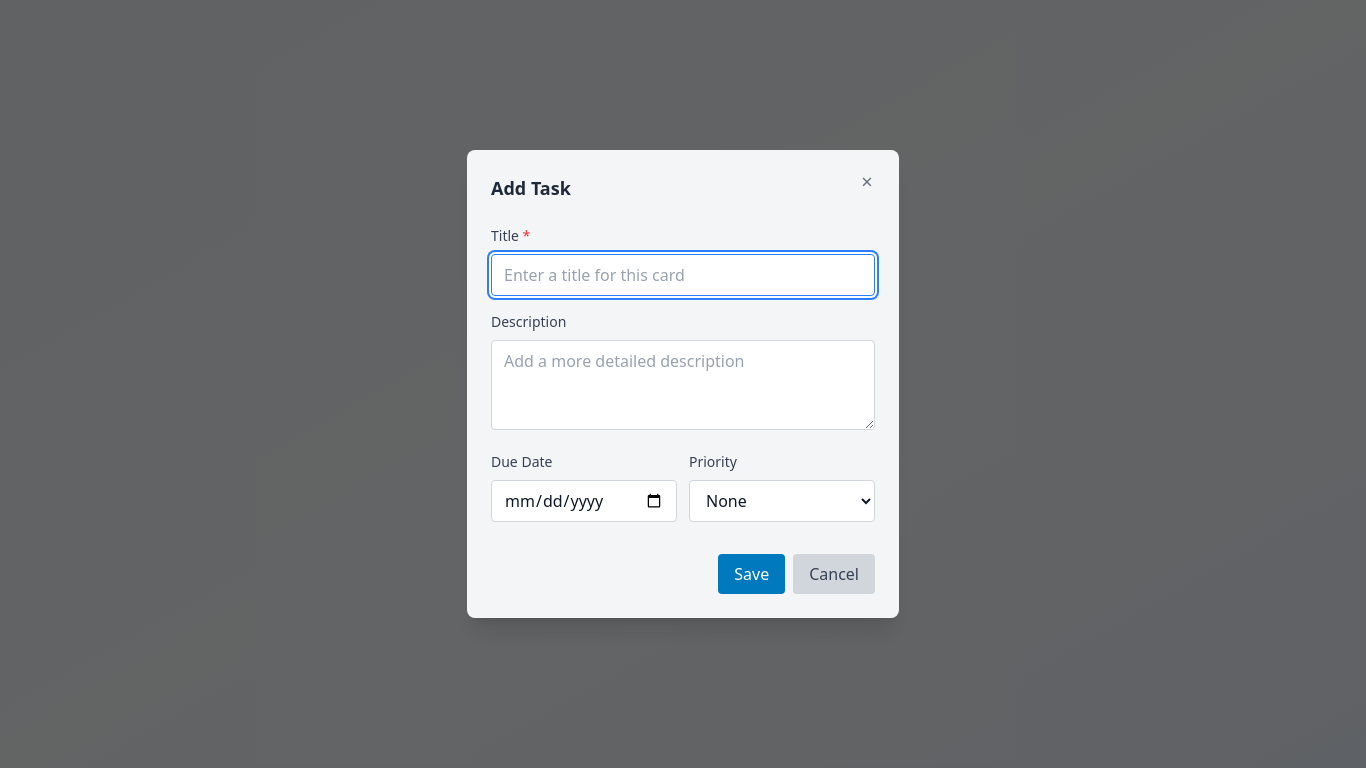
Test: TaskFormModal › Form Validation › shows error when submitting without title
Click the button "Save": coordinates (752, 574) x1=718 y1=554 x2=785 y2=594
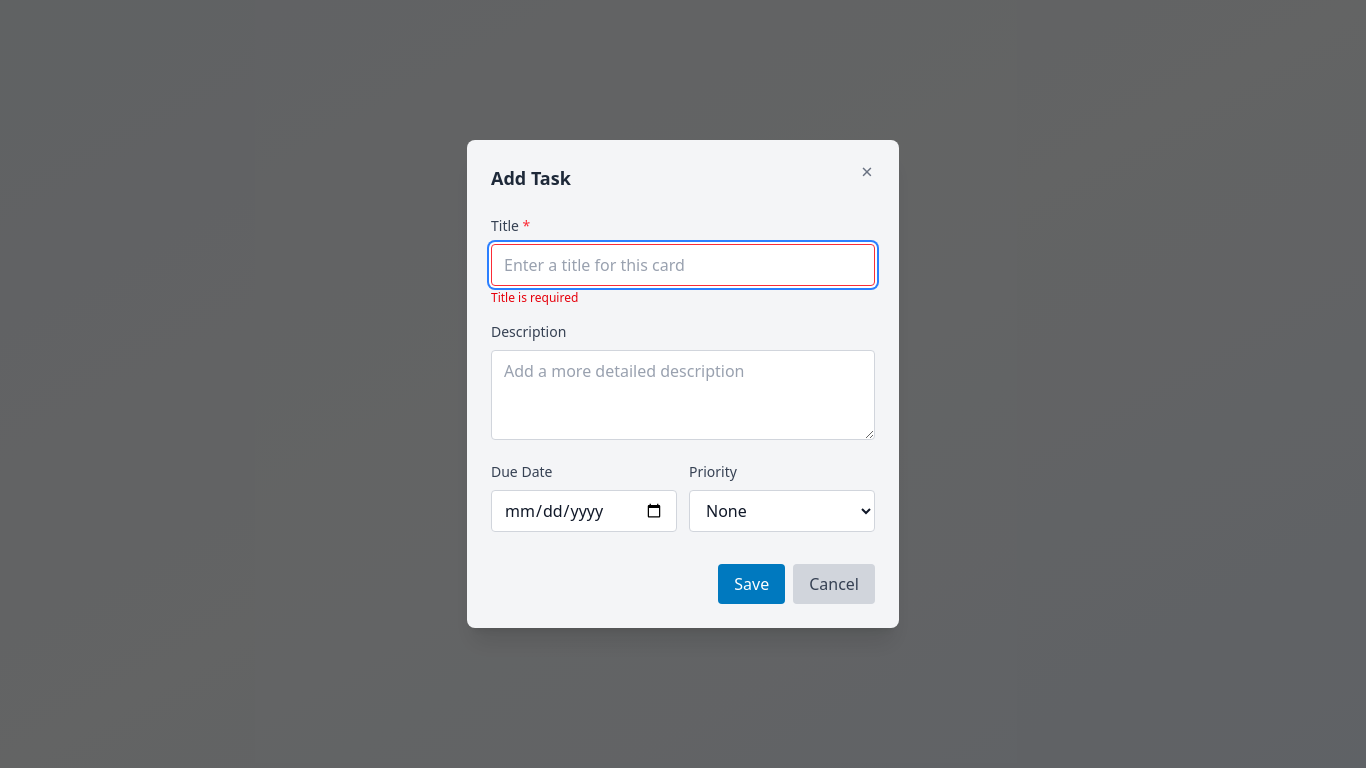
Expected: the text "Title is required" is shown, x1=491 y1=289 x2=578 y2=306
